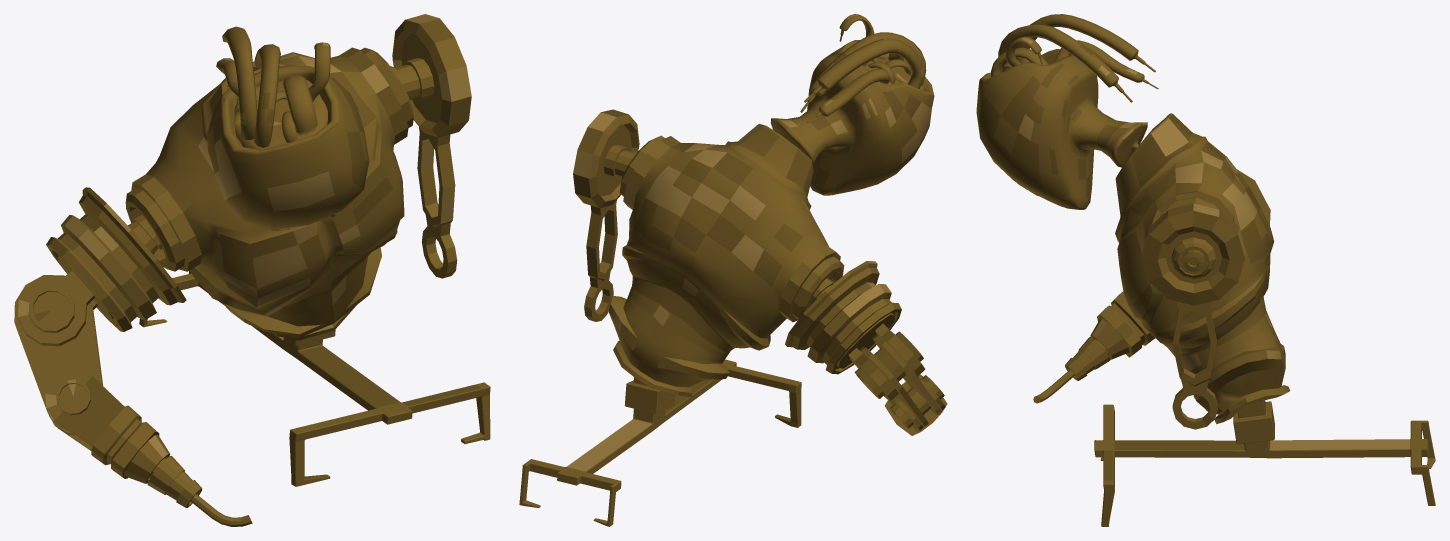
File: scrap1.fbx
3 views of the same model, side by side, from view 1: azimuth 30°, elevation 25°; view 2: azimuth 150°, elevation 25°; view 3: azimuth 270°, elevation 25° (orthographic). The views are drawn at different scales.
Visible parts, largest first — view 1: scrap1; view 2: scrap1; view 3: scrap1.
Part boxes in pixels (box(x1,y1,x2,y2)): scrap1: box(14, 14, 490, 526); scrap1: box(519, 14, 947, 526); scrap1: box(976, 14, 1435, 526).
Bounding box in the file's own units: 130 × 141 × 145.
